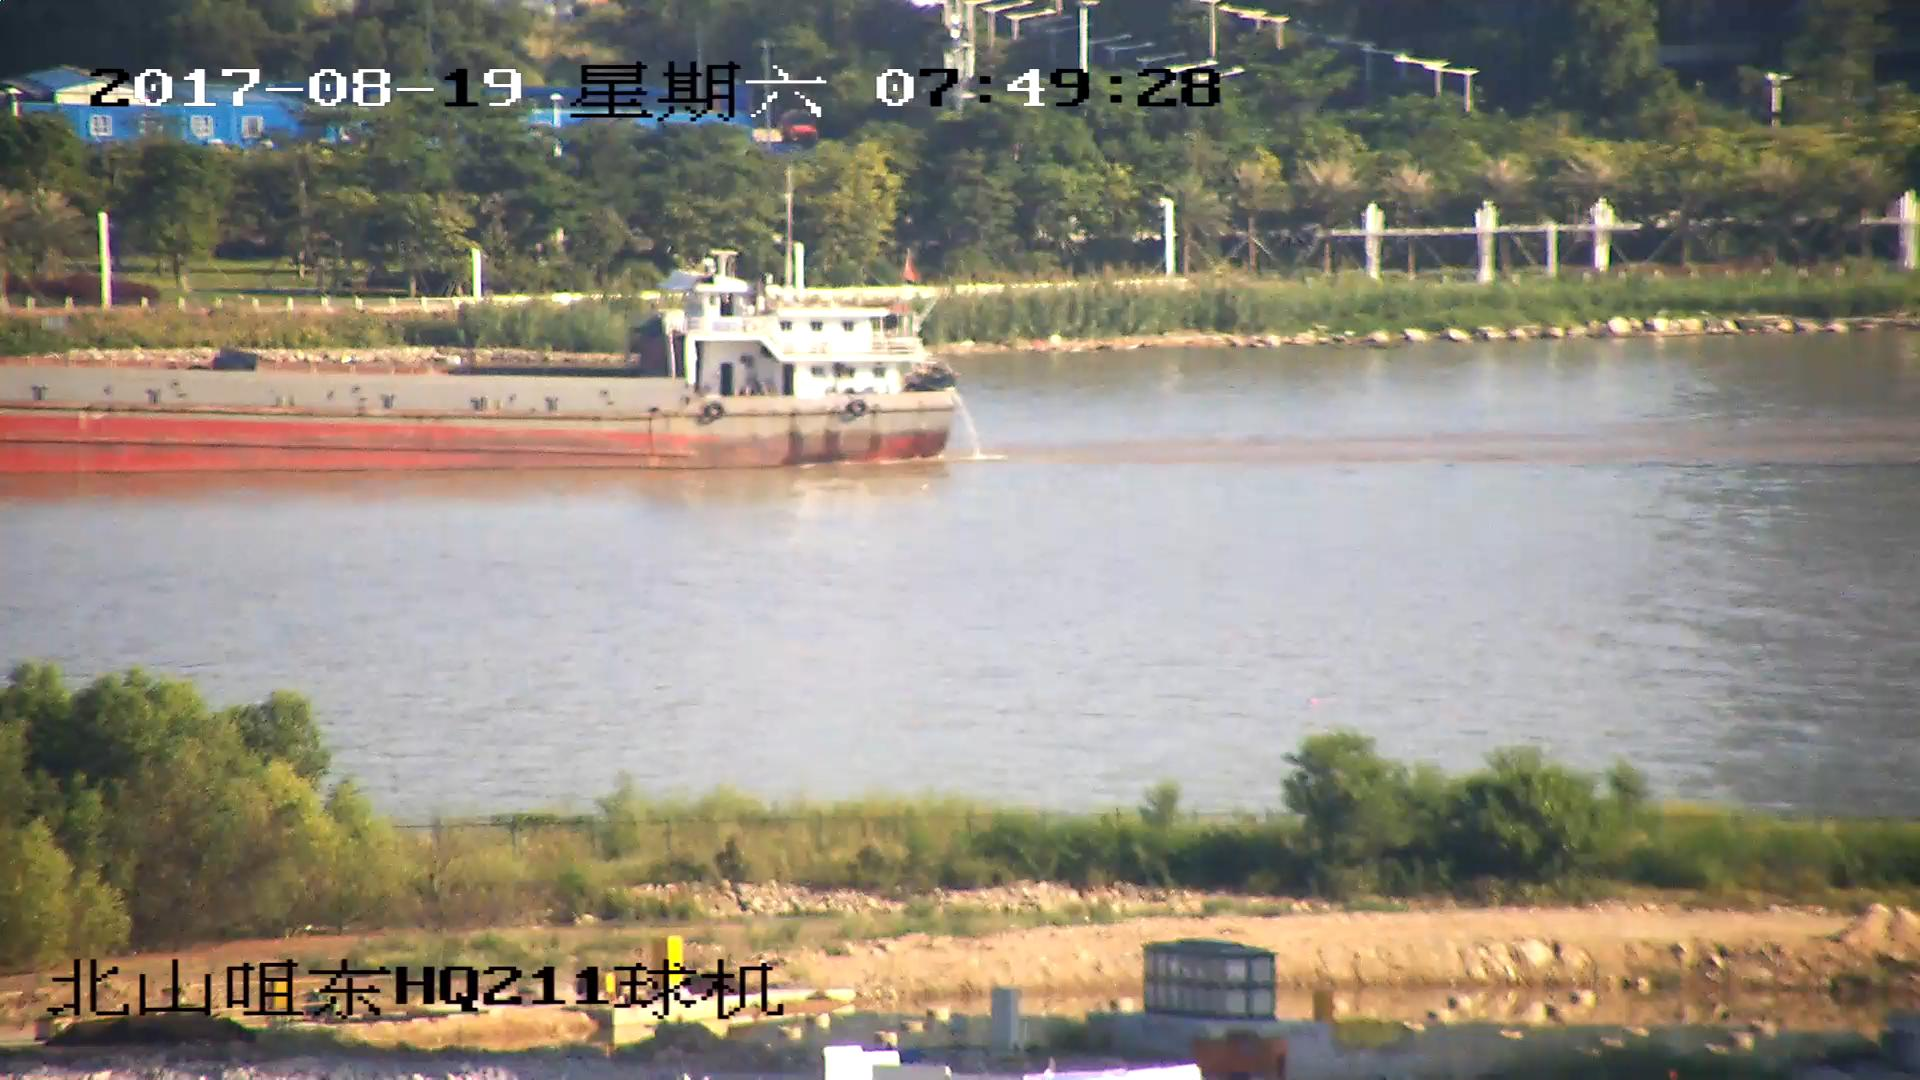bulk cargo carrier: (1, 269, 963, 478)
